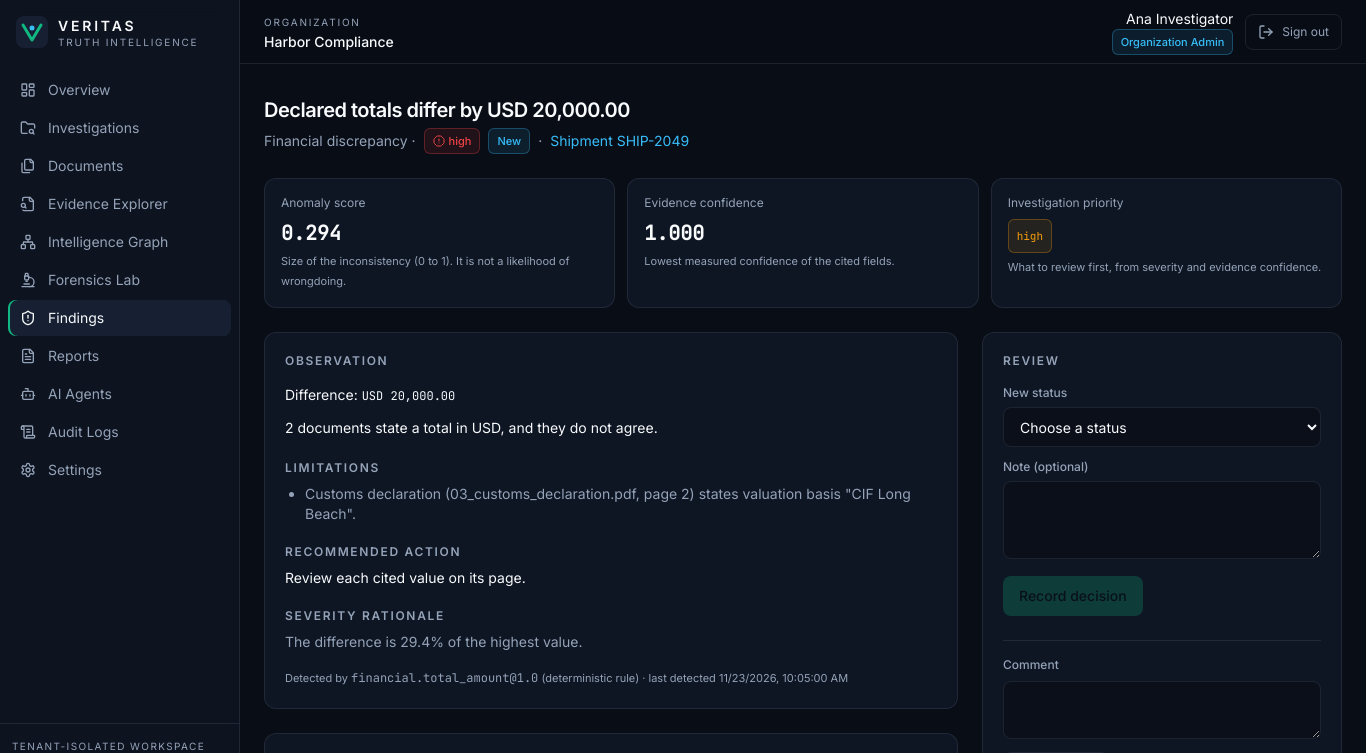
Test: the detail page cites each evidence item at its source and records a decision with a note
Expected: the heading "Declared totals differ by USD 20,000.00" is shown, [264,96,689,124]
Expected: the element named "Anomaly score: 0.294" is shown, [264,178,615,308]
Select "Confirmed observation" in the dropdown labelled "New status": (1162, 427) [1003,407,1321,447]
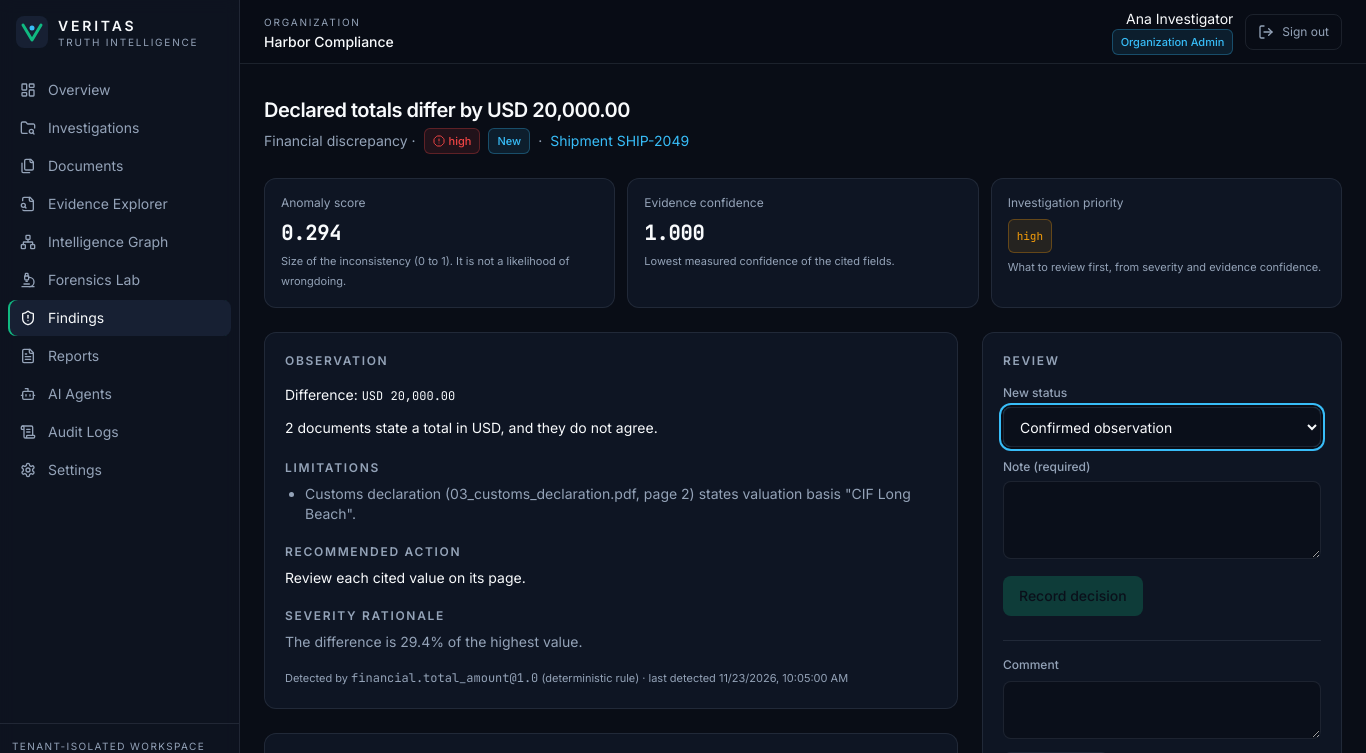
Expected: the button "Record decision" is disabled, [1003,576,1143,616]
Now the text "Note (required)" is shown, box [1003,459,1090,474]
In the text box labelled "Note (required)": (1162, 520) [1003,481,1321,559], type "Verified on each page."
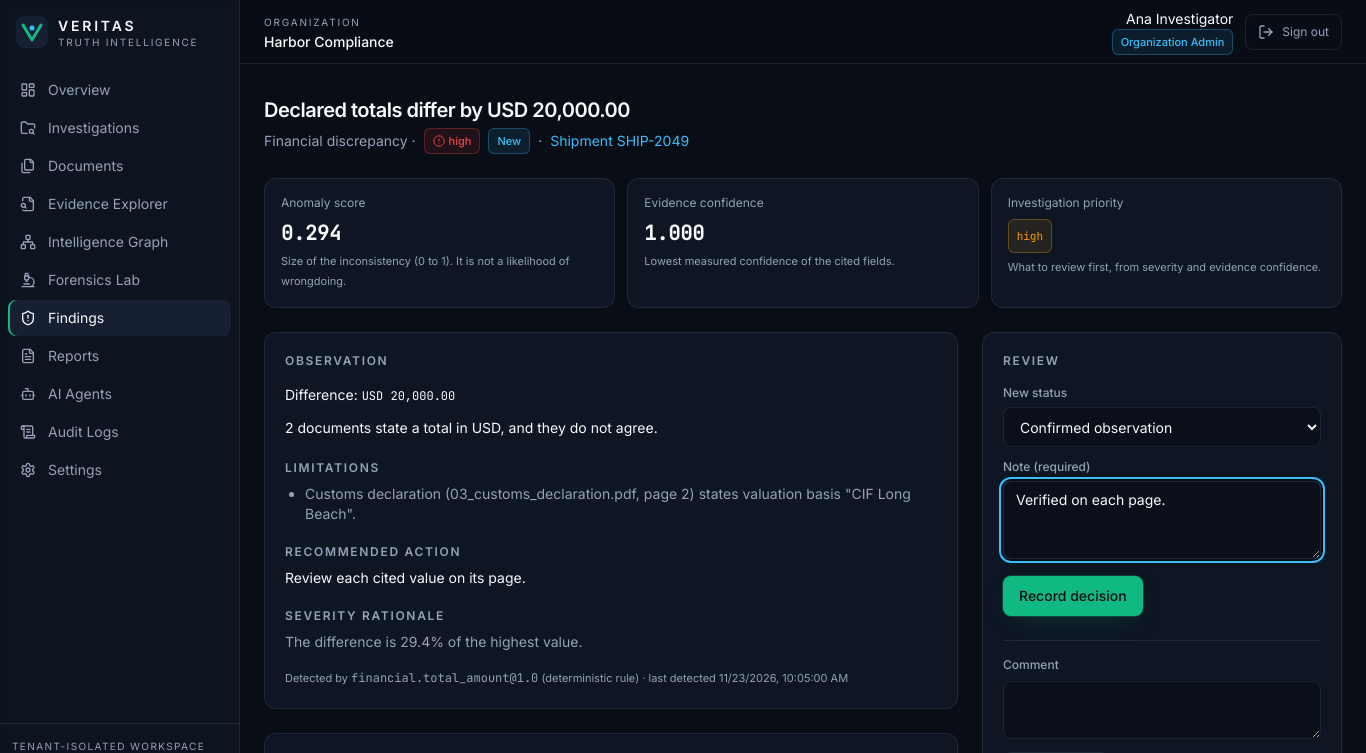
Click the button "Record decision": (1073, 596) [1003,576,1143,616]
(page scrolled)
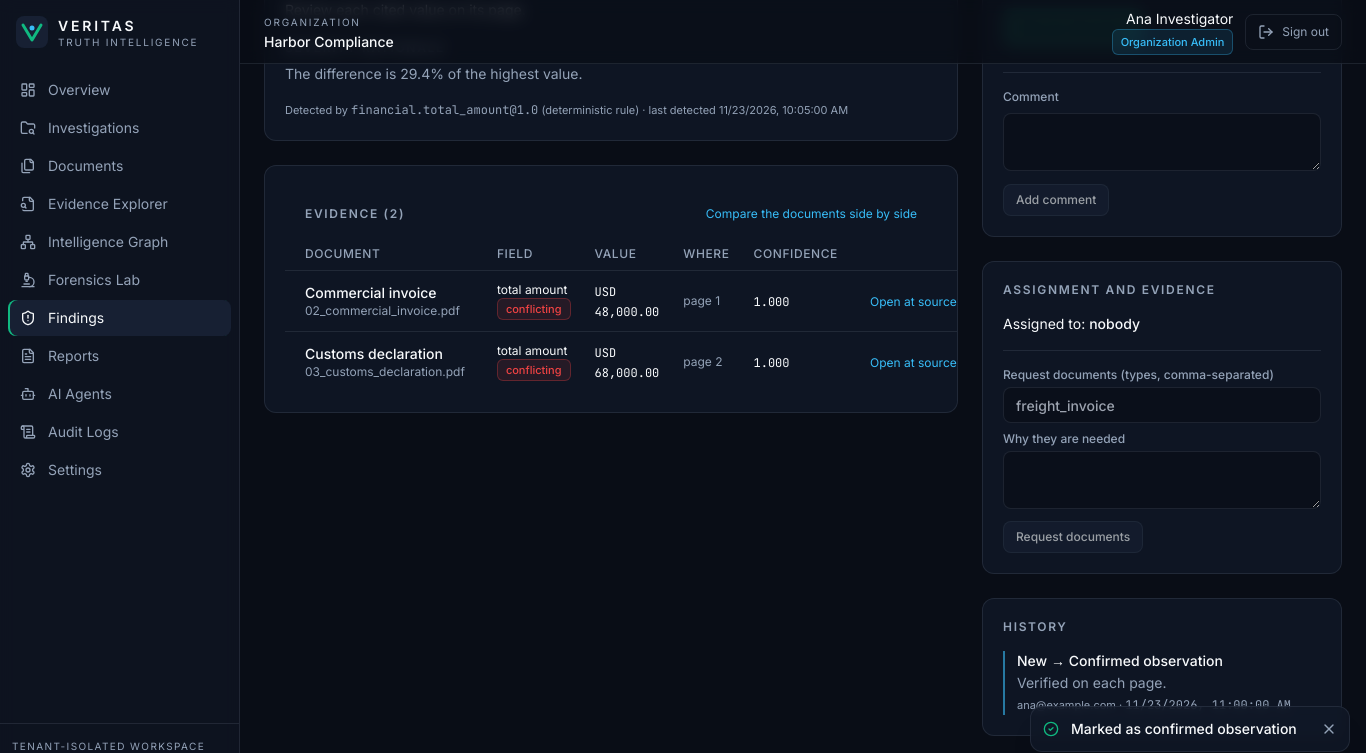
Now the text "New → Confirmed observation" is shown, box [1017,652,1223,669]
Now the text "Verified on each page." is shown, box [1017,674,1166,691]
